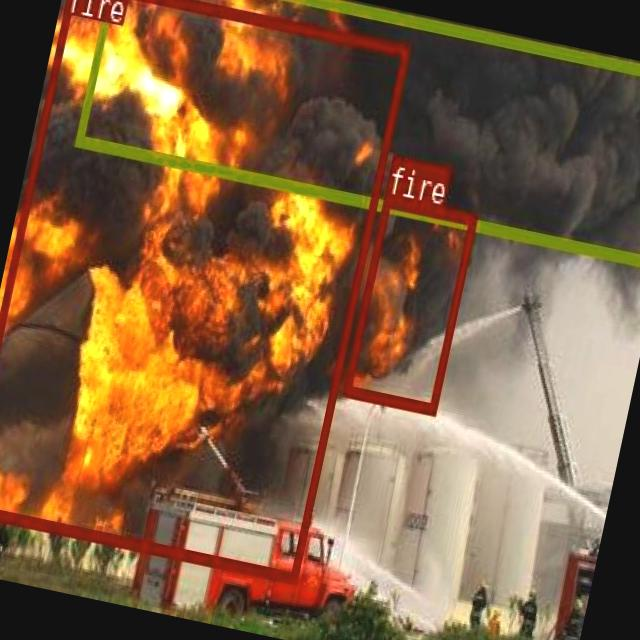fire: (0, 0, 409, 582), (342, 193, 476, 412)
smoke: (74, 0, 640, 265)
